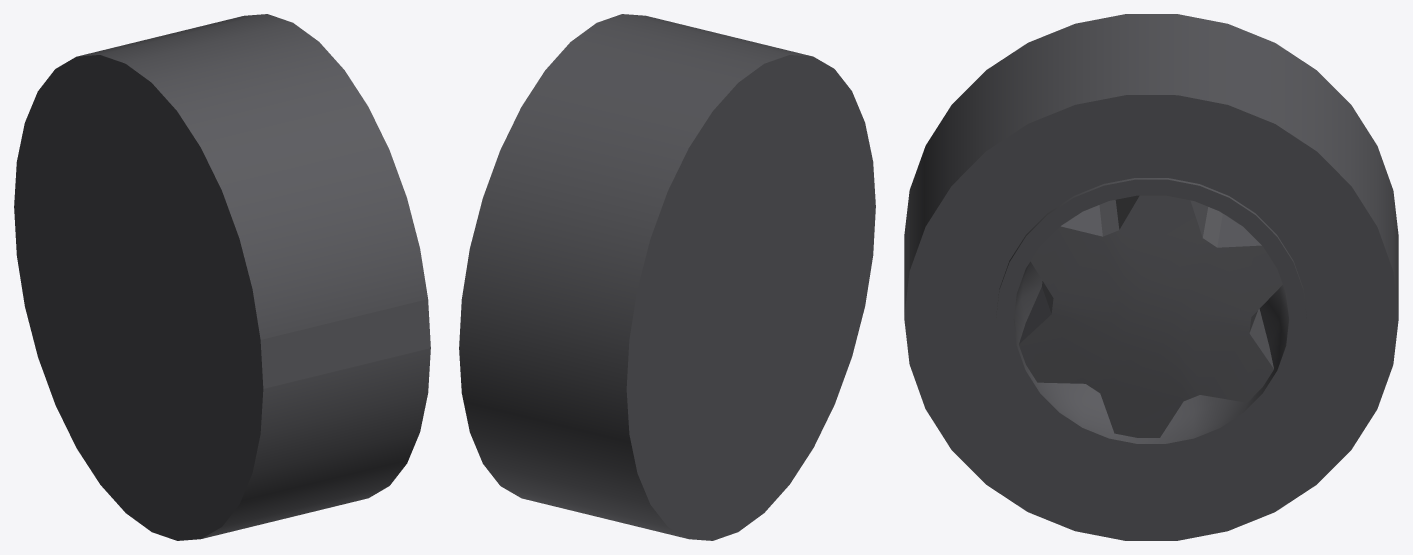
File: llanta3.obj
3 renders of one model, left to right at view 1: azimuth 30°, elevation 25°; view 2: azimuth 150°, elevation 25°; view 3: azimuth 270°, elevation 25°, orthographic.
Visible parts, largest first — view 1: llanta3; view 2: llanta3; view 3: llanta3.
Part boxes in pixels (x1,y1,x2,y2): llanta3: (14,14,430,540); llanta3: (459,14,875,540); llanta3: (904,14,1398,540).
Size of the model in its own units: 0.0577 by 0.1449 by 0.1457.
1 material, 1 textured.
